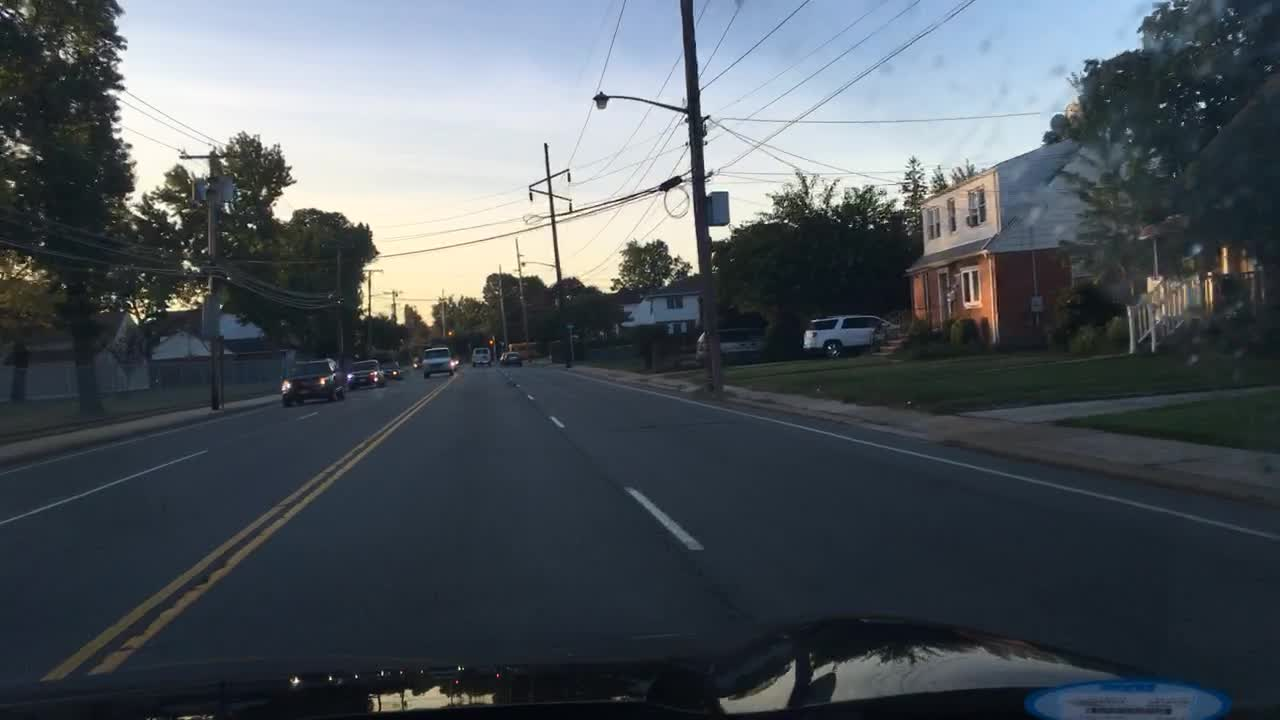car: (800, 313, 900, 360), (278, 357, 346, 406), (690, 327, 772, 367), (343, 358, 386, 389), (418, 342, 453, 378), (380, 359, 405, 380), (469, 345, 491, 366), (498, 348, 522, 367), (411, 355, 423, 369)
traffic light: (445, 327, 458, 337), (487, 331, 494, 344)
traffic sign: (1029, 292, 1041, 312)
